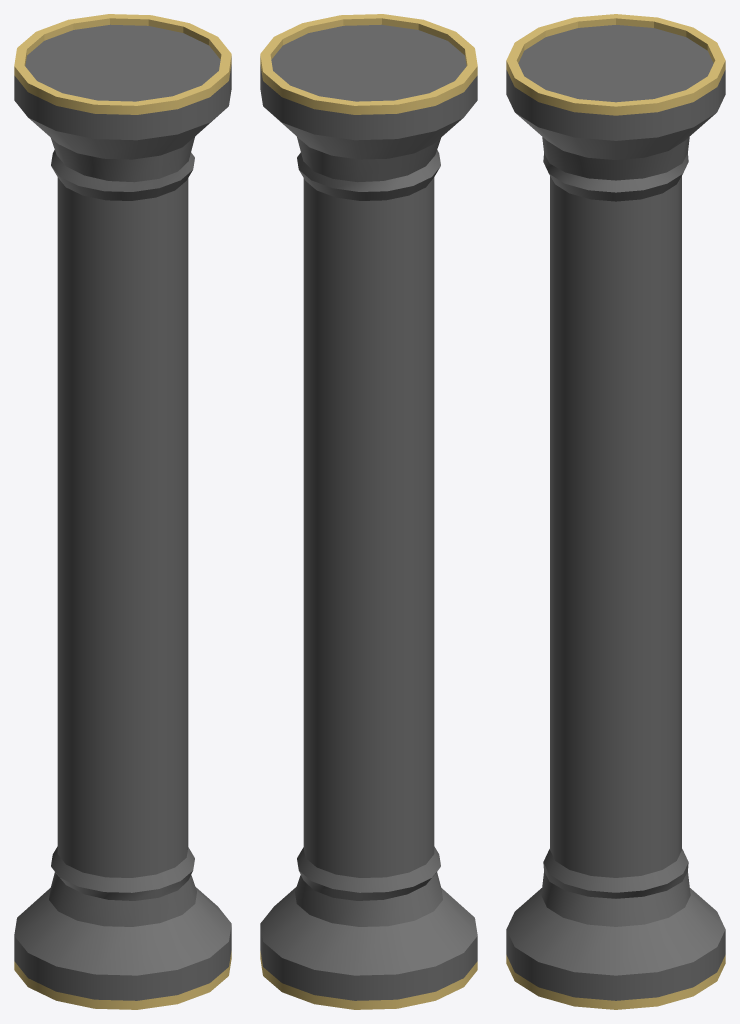
File: MS_Pillar.fbx
3 views of the same model, side by side, from view 1: azimuth 30°, elevation 25°; view 2: azimuth 150°, elevation 25°; view 3: azimuth 270°, elevation 25° (orthographic).
Visible parts, largest first — view 1: pCylinder1; view 2: pCylinder1; view 3: pCylinder1.
Boxes of the visible parts, x1,y1,x2,y2 form: pCylinder1: (14,14,231,1009); pCylinder1: (260,14,477,1009); pCylinder1: (506,14,725,1009).
Bounding box in the file's own units: 212 × 962 × 212.
